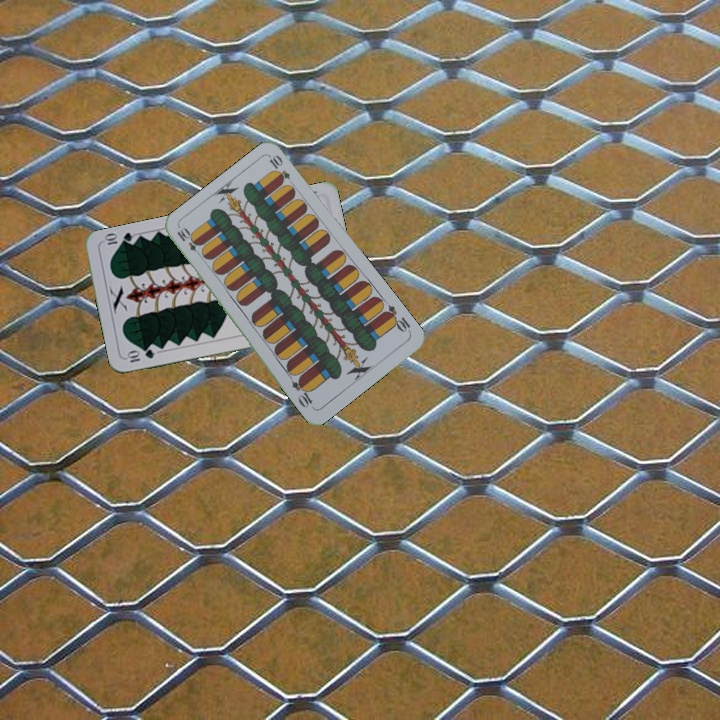E10: (379, 301, 413, 336), (173, 224, 205, 259)
G10: (123, 345, 157, 365)
